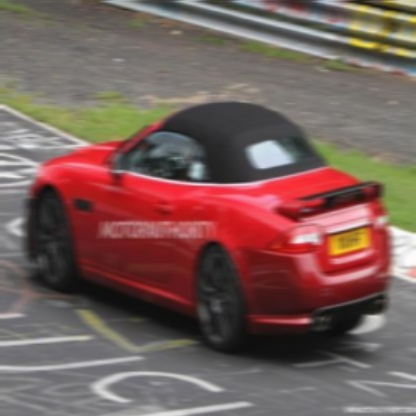Vehicle: (24, 100, 392, 355)
